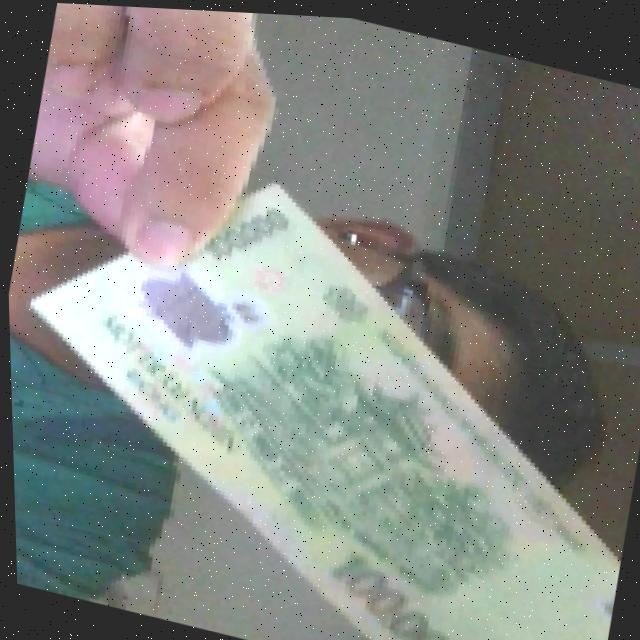100 000 VND: (3, 120, 640, 640)
